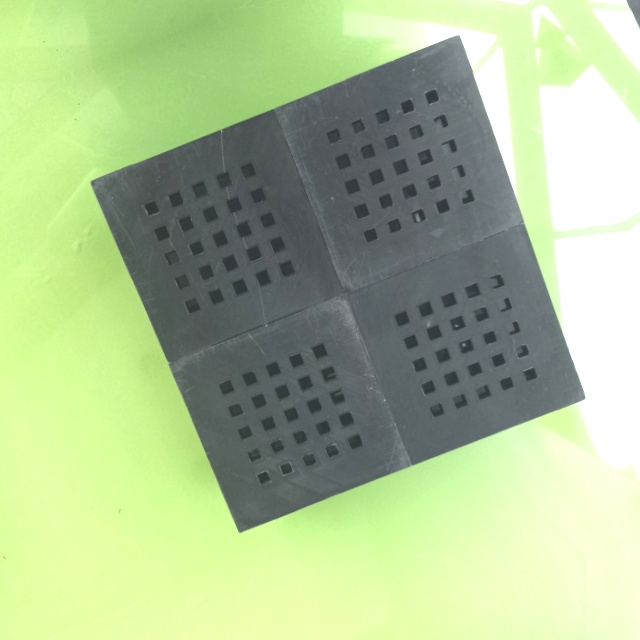pallet: (87, 29, 600, 543)
